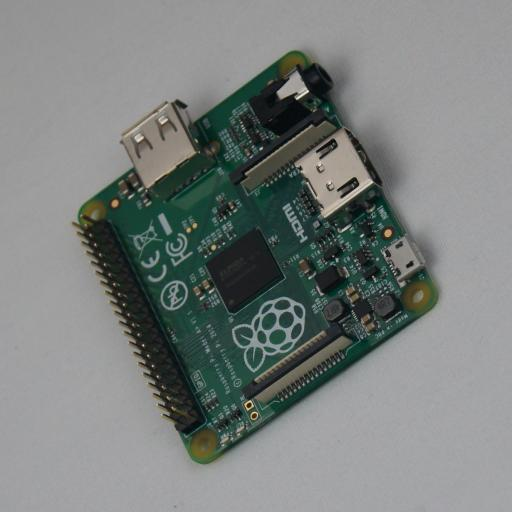Raspberry Pi A-: (72, 50, 439, 464)
